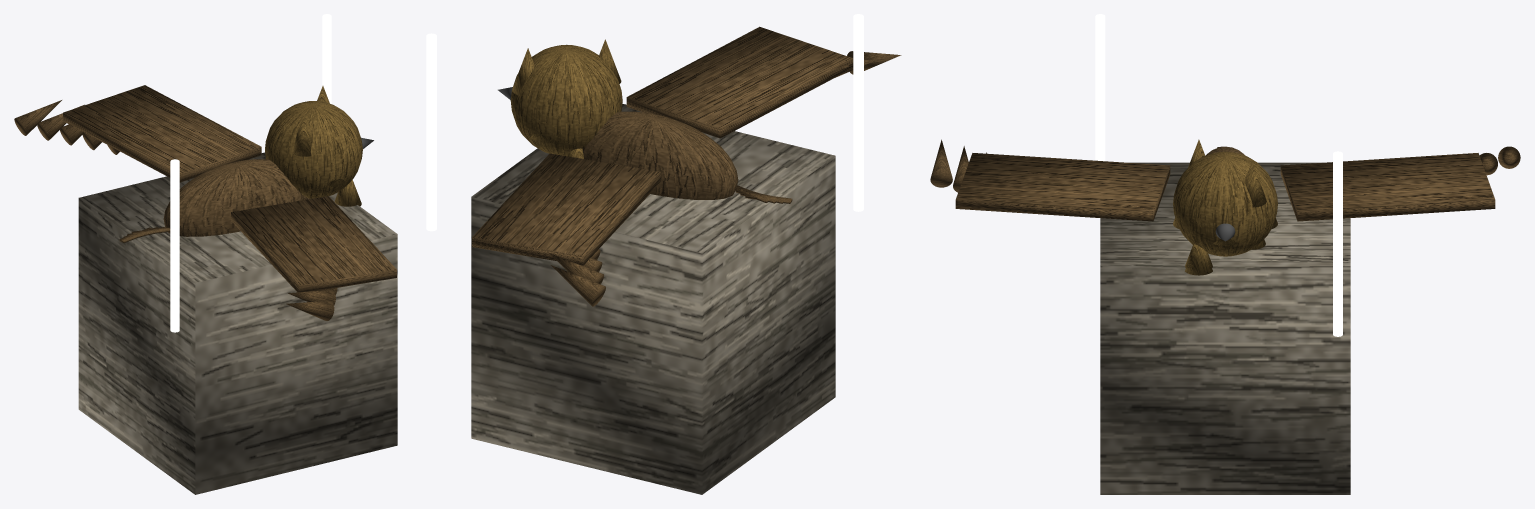
The model's file is anzu.glb.
3 views of the same model, side by side, from view 1: azimuth 30°, elevation 25°; view 2: azimuth 150°, elevation 25°; view 3: azimuth 270°, elevation 25° (orthographic). The views are drawn at different scales.
Visible parts, largest first — view 1: Cube, WingR, WingL, LionHead, Body, Bolt1, Bolt0, Feather.009, Feather.004, ManeTuft5, Feather.008, ManeTuft7 (+1 smaller); view 2: Cube, WingL, WingR, LionHead, Body, Bolt0, Bolt1, Feather.009, Feather.008; view 3: Cube, WingL, WingR, LionHead, Bolt0, Bolt1, ManeTuft7, Feather.004.
Part boxes in pixels (bbox=[...]): Cube: bbox=[78, 152, 397, 494]; WingR: bbox=[63, 85, 261, 182]; WingL: bbox=[231, 196, 396, 292]; LionHead: bbox=[265, 101, 362, 198]; Body: bbox=[163, 159, 310, 236]; Bolt1: bbox=[170, 159, 179, 332]; Bolt0: bbox=[322, 14, 331, 103]; Feather.009: bbox=[14, 100, 61, 135]; Feather.004: bbox=[286, 300, 334, 320]; ManeTuft5: bbox=[293, 114, 312, 156]; Feather.008: bbox=[37, 104, 84, 140]; ManeTuft7: bbox=[334, 180, 361, 206]; Cube: bbox=[471, 103, 835, 494]; WingL: bbox=[626, 26, 853, 138]; WingR: bbox=[472, 153, 661, 265]; LionHead: bbox=[510, 44, 622, 156]; Body: bbox=[582, 111, 738, 199]; Bolt0: bbox=[426, 33, 436, 231]; Bolt1: bbox=[853, 14, 863, 211]; Feather.009: bbox=[551, 265, 605, 306]; Feather.008: bbox=[549, 253, 603, 284]; Cube: bbox=[1100, 162, 1350, 494]; WingL: bbox=[955, 153, 1170, 221]; WingR: bbox=[1280, 153, 1495, 221]; LionHead: bbox=[1173, 151, 1277, 256]; Bolt0: bbox=[1333, 151, 1342, 336]; Bolt1: bbox=[1095, 14, 1105, 161]; ManeTuft7: bbox=[1185, 244, 1212, 275]; Feather.004: bbox=[930, 139, 952, 187].
Size of the model in its own units: 2.27 by 2.71 by 4.
Materials: 5 (3 with a texture image).
